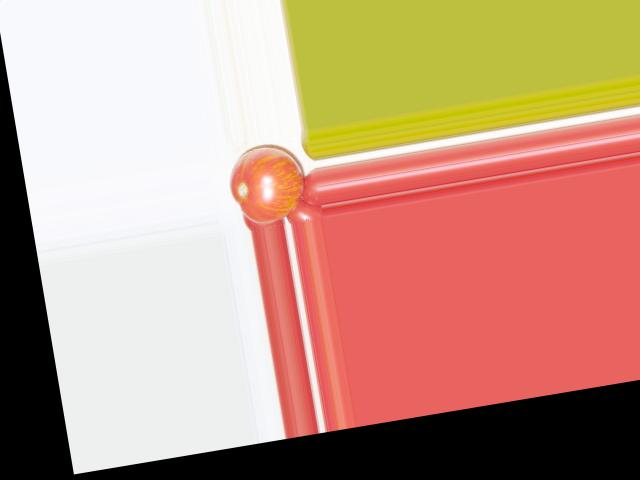tomato: (223, 141, 310, 228)
